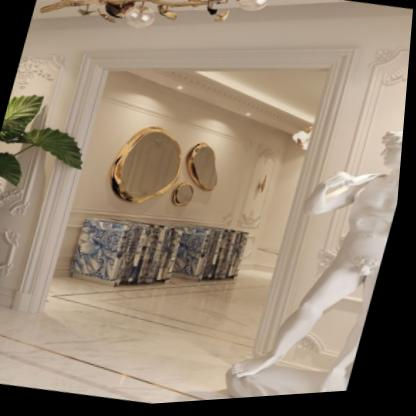Ceramic floor: (0, 265, 273, 406)
